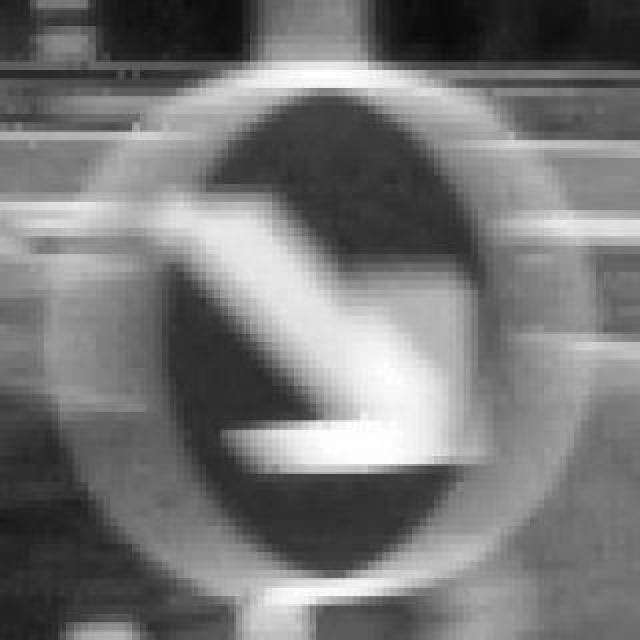keep right: (140, 70, 500, 588)
